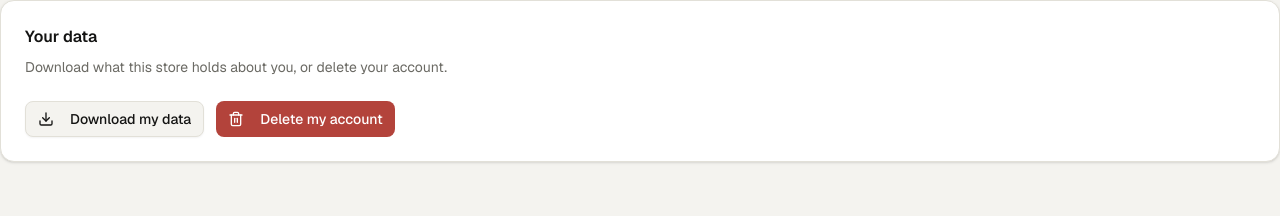
Your data card (studio issue #603) › shows an error when the download fails
Click the button "Download my data" at (115, 119), box [25, 101, 204, 137]
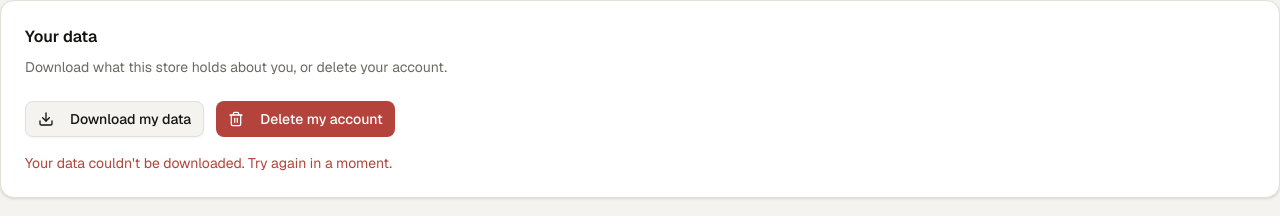
Expected: the message shows "couldn't be downloaded", [25, 154, 392, 172]
